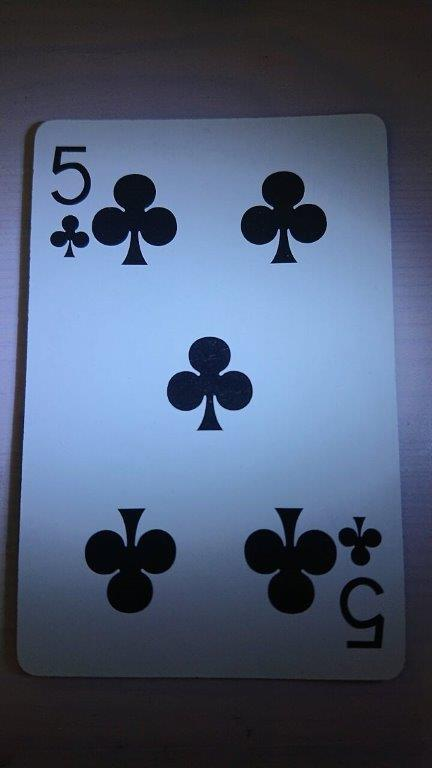5C: (14, 112, 408, 683)
